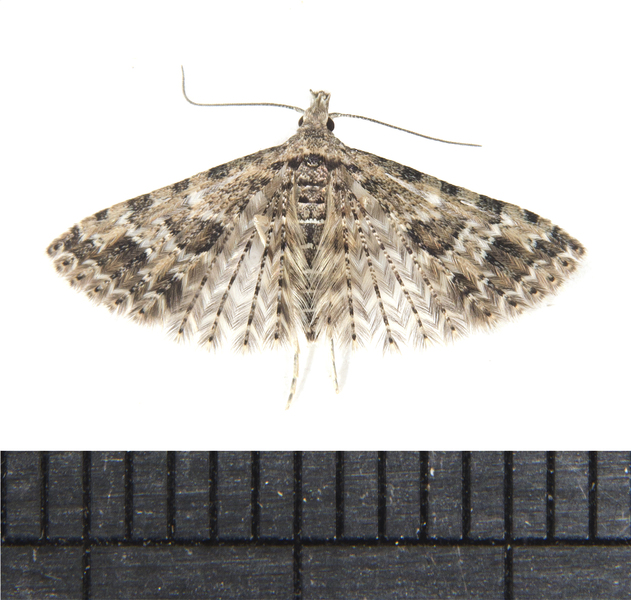Alucitidae: (41, 56, 591, 409)
moth: (39, 54, 589, 407)
